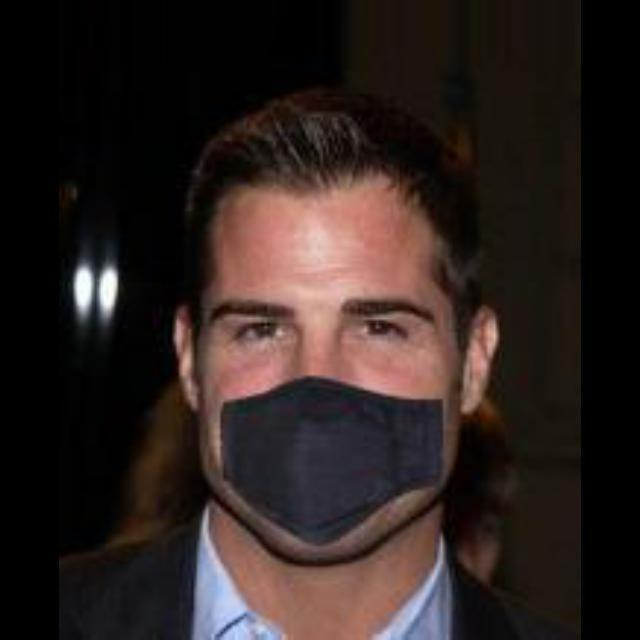1_mascarilla: (218, 370, 446, 548)
